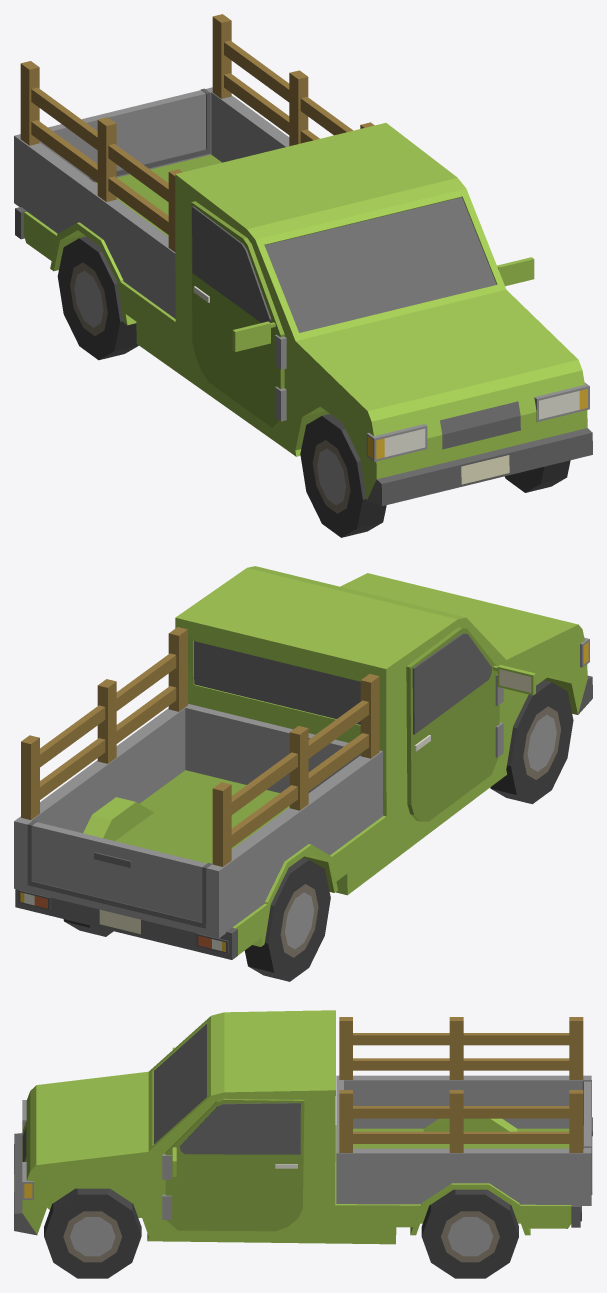
File: kar3_2.fbx
3 views of the same model, one above another, from view 1: azimuth 30°, elevation 25°; view 2: azimuth 150°, elevation 25°; view 3: azimuth 270°, elevation 25° (orthographic). The views are drawn at different scales.
Visible parts, largest first — view 1: Cube_1, Cylinder_2, Cylinder, Cylinder_4; view 2: Cube_1, Cylinder, Cylinder_2; view 3: Cube_1, Cylinder_4, Cylinder_5.
Boxes of the visible parts, x1,y1,x2,y2 form: Cube_1: (14,14,592,506); Cylinder_2: (300,414,386,537); Cylinder: (57,236,138,360); Cylinder_4: (504,460,570,492); Cube_1: (14,566,592,959); Cylinder: (244,858,330,981); Cylinder_2: (490,680,573,804); Cube_1: (14,1010,592,1244); Cylinder_4: (44,1188,141,1278); Cylinder_5: (421,1189,518,1278).
Bounding box in the file's own units: 213 × 165 × 458.
